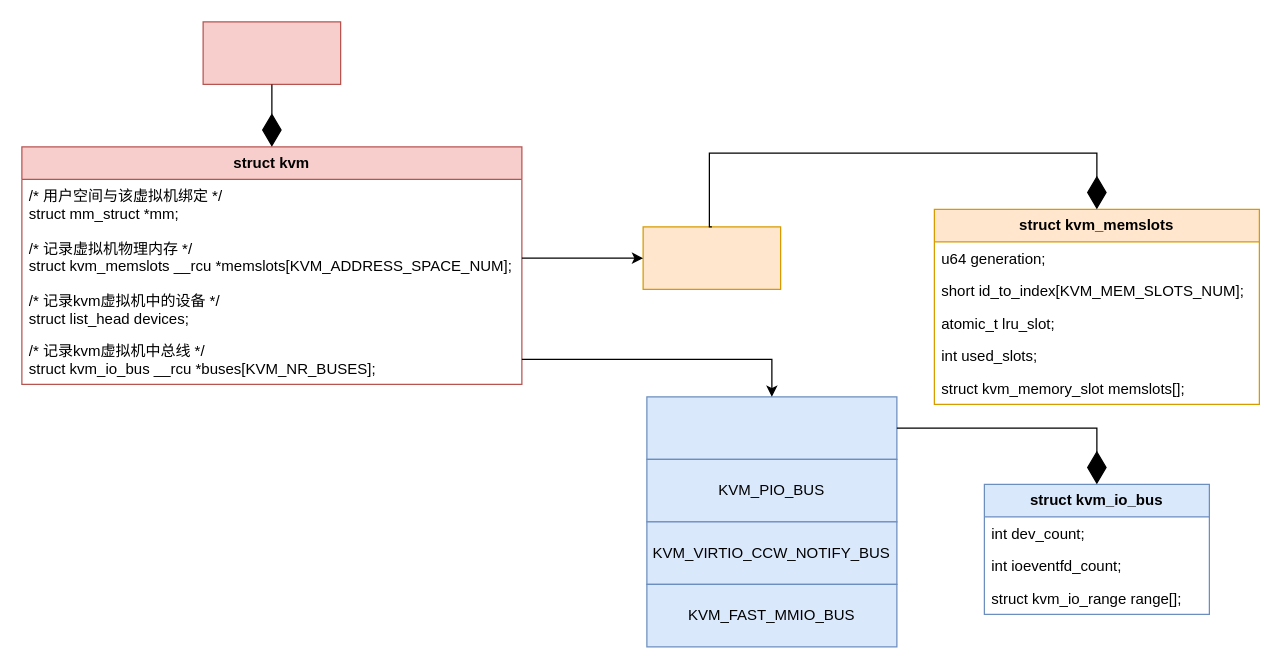
Some shapes in this 1281 by 669 pixel diagram are drawn without their labels. Here are the shapes that lost their labels. From the top down, the centre of each, then its label:
At point (271, 52): "kvm".
At point (711, 257): "memslots".
At point (771, 427): "KVM_MMIO_BUS".
